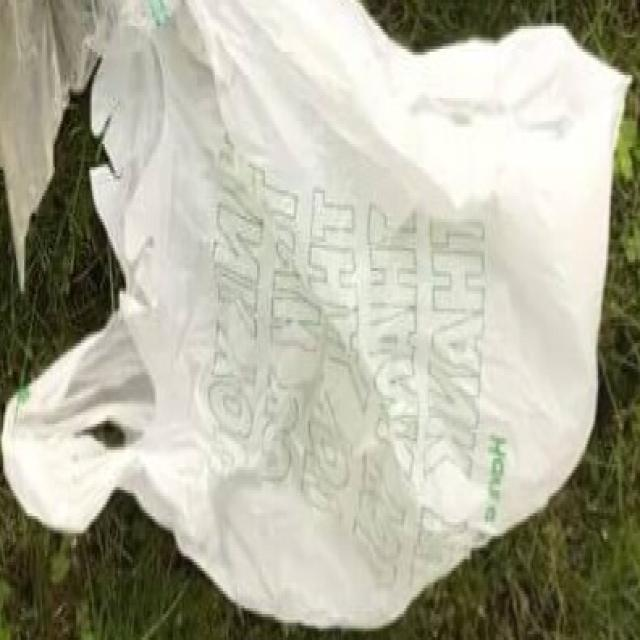plastic bag: (19, 0, 640, 594)
